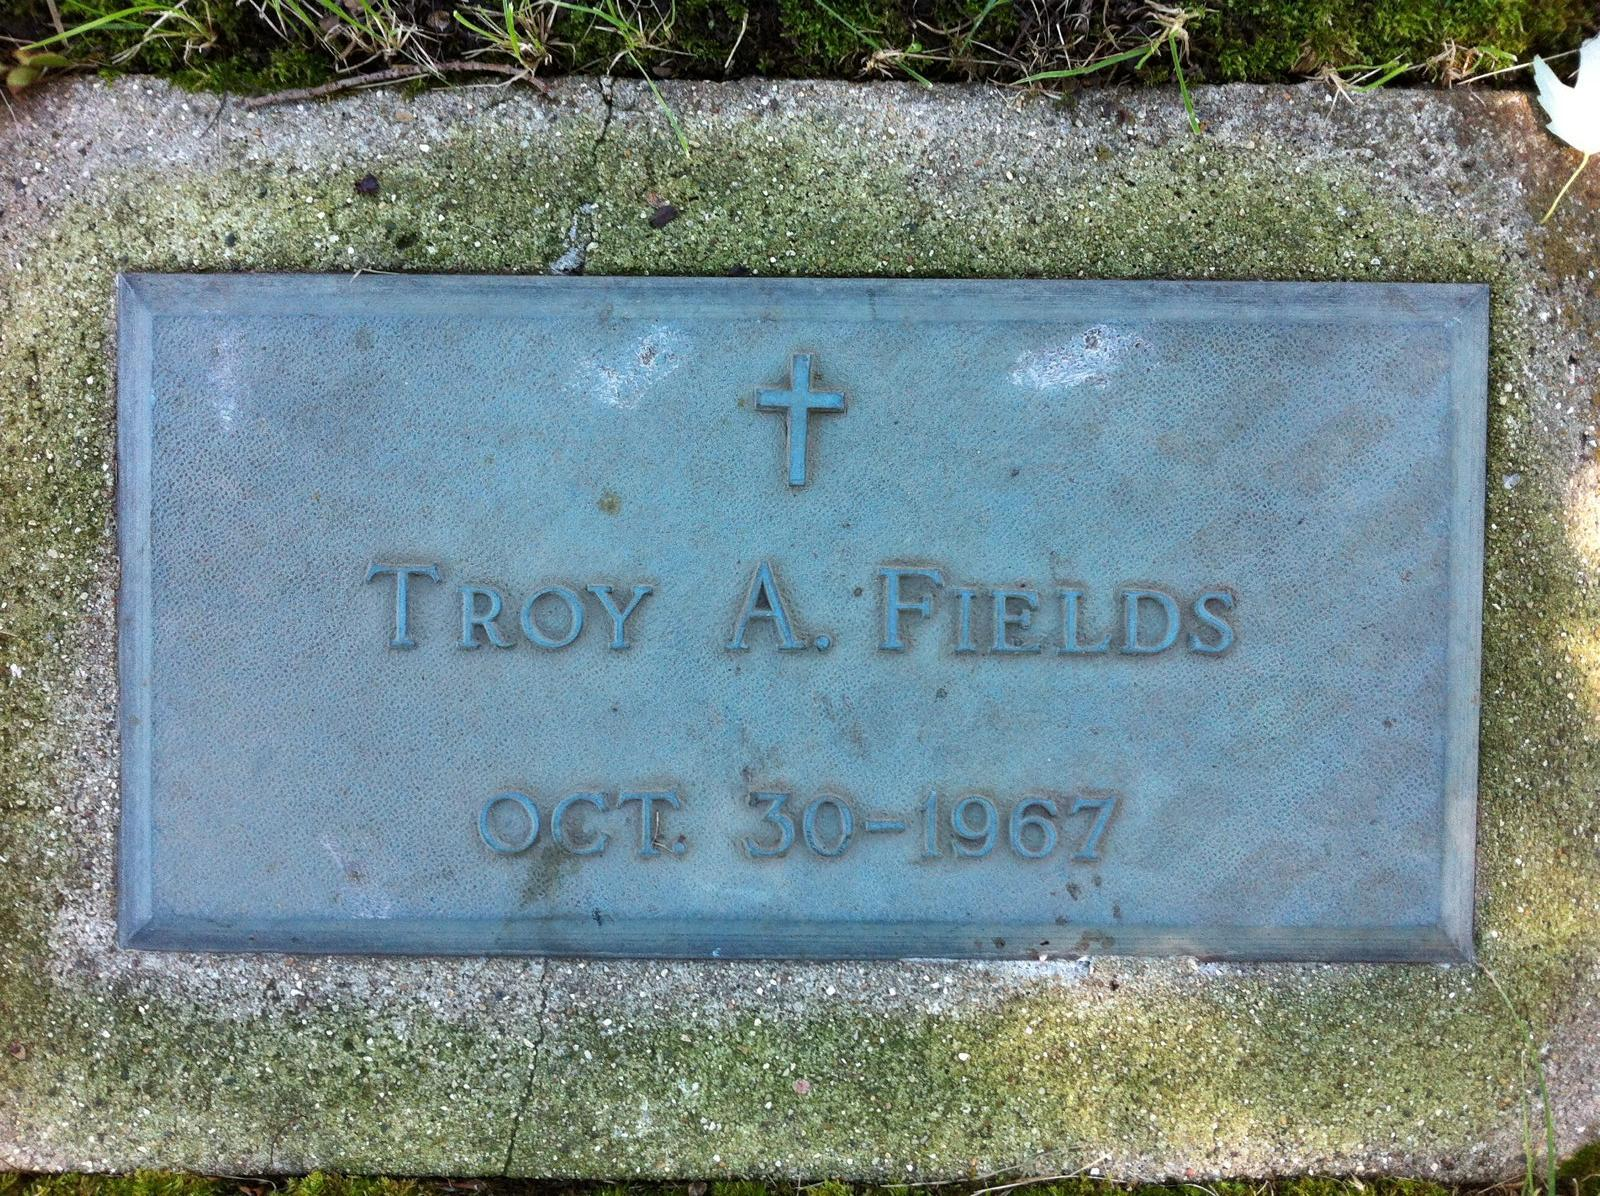flat: (0, 72, 1600, 1173)
